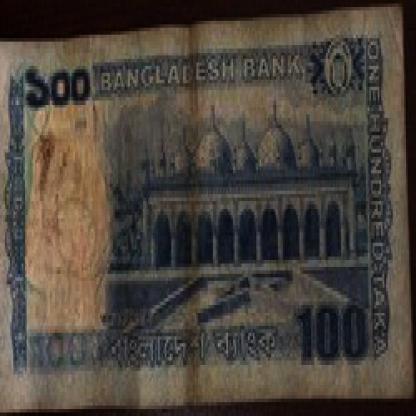one hundred taka: (298, 291, 368, 361), (16, 62, 96, 114)
